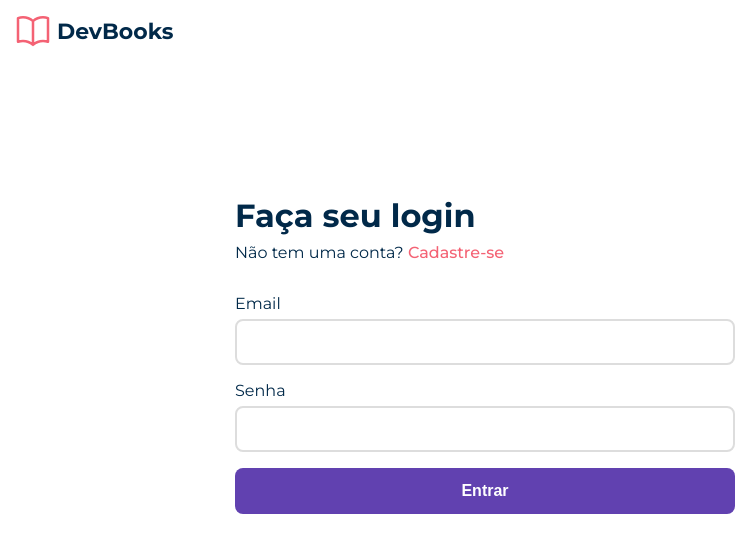
Test: SignIn Component › shows validation errors when inputs are invalid
Step 1. Click the button "Entrar" → click(485, 491), box 235,468 -> 735,514
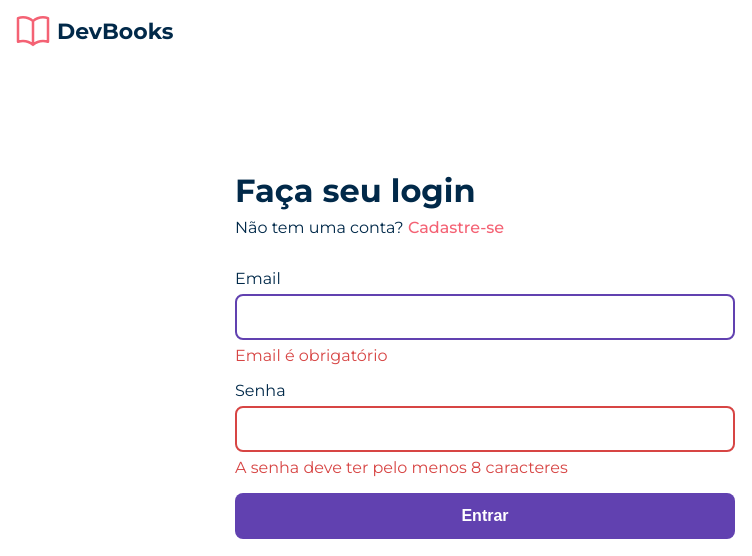
Check: the text "Email é obrigatório" is shown, box 235,346 -> 388,365
Check: the text "A senha deve ter pelo menos 8 caracteres" is shown, box 235,458 -> 568,477
Step 2. Type "test" into the field labelled "Email" → (485, 317), box 235,294 -> 735,340
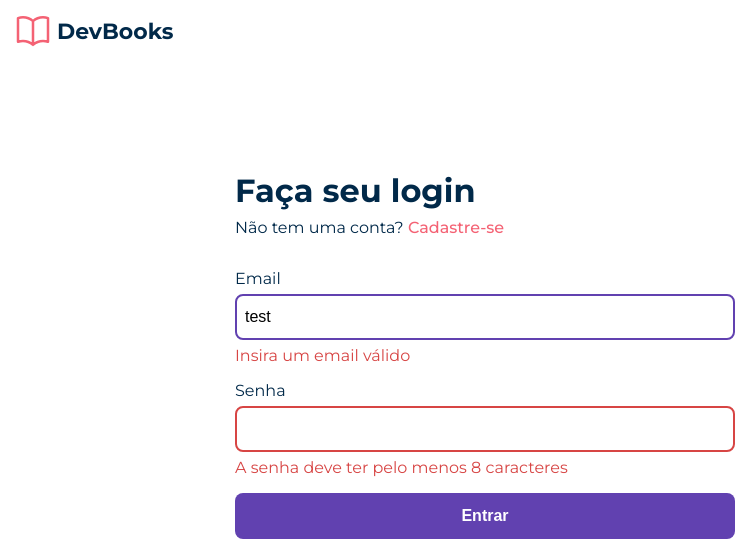
Check: the text "Insira um email válido" is shown, box 235,346 -> 410,365
